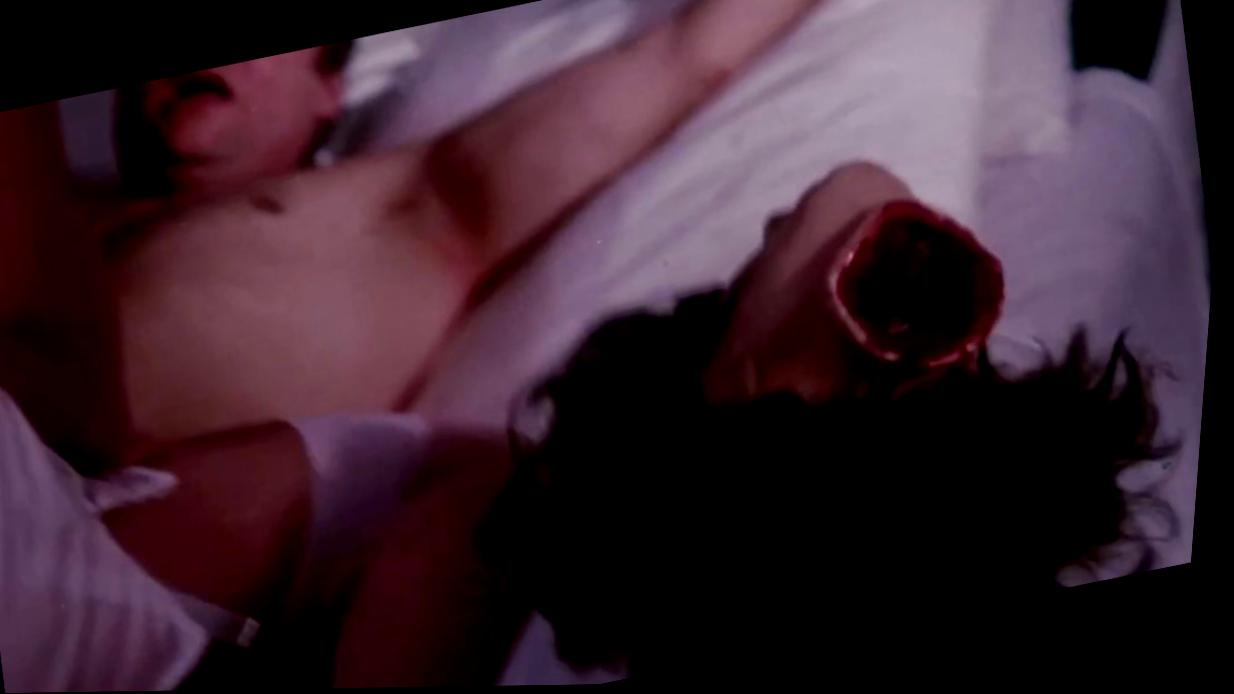Fire: (837, 202, 1010, 370)
